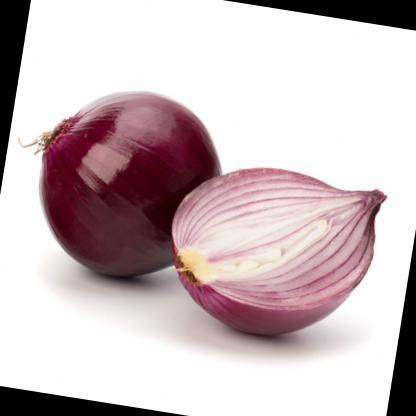onion: (17, 51, 242, 302)
